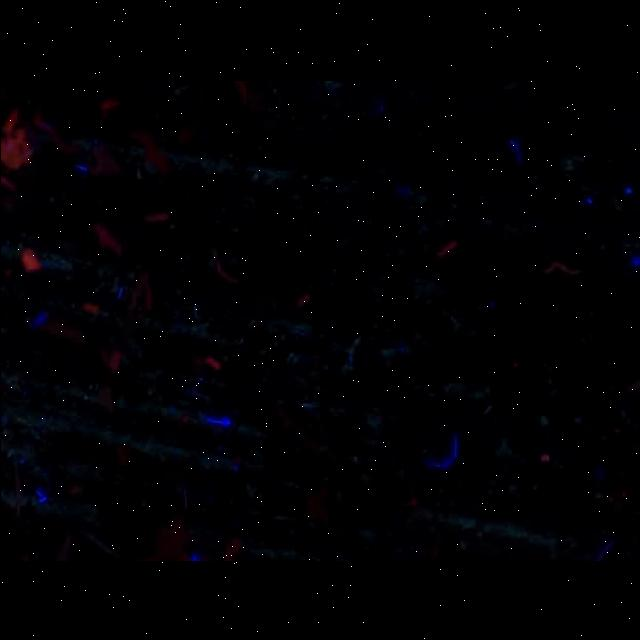Fragment: (20, 247, 40, 272)
